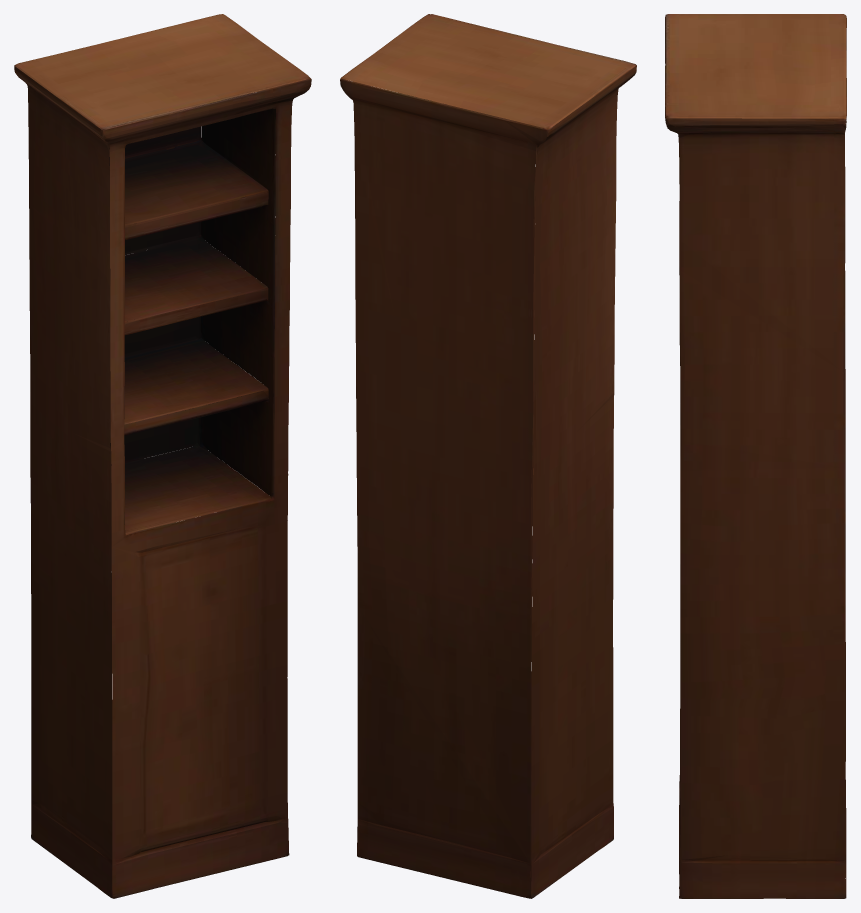
Rendered from shelves.glb.
3 renders of one model, left to right at view 1: azimuth 30°, elevation 25°; view 2: azimuth 150°, elevation 25°; view 3: azimuth 270°, elevation 25°, orthographic.
Parts seen in each view (by area): view 1: geometry_0; view 2: geometry_0; view 3: geometry_0.
Part boxes in pixels (left/top/right/bottom): geometry_0: left=14, top=14, right=311, bottom=898; geometry_0: left=340, top=14, right=636, bottom=898; geometry_0: left=665, top=14, right=846, bottom=898.
Size of the model in its own units: 0.2839 by 1 by 0.2087.
Materials: 1 (1 with a texture image).
